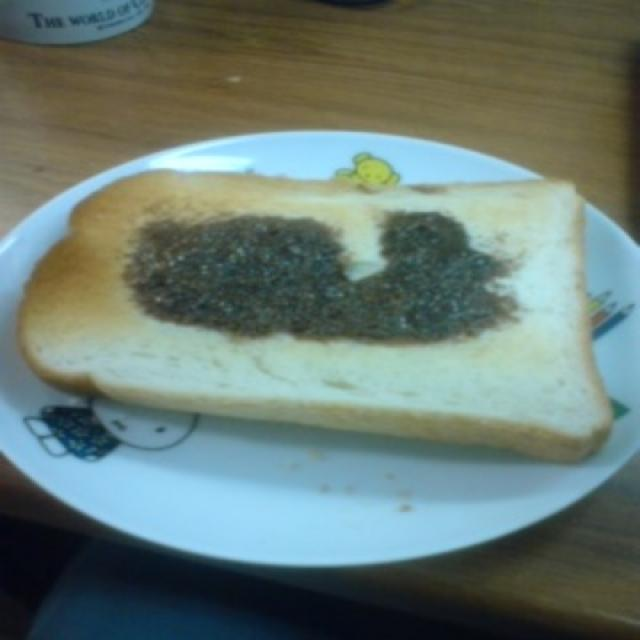面包点心: (12, 146, 630, 482)
